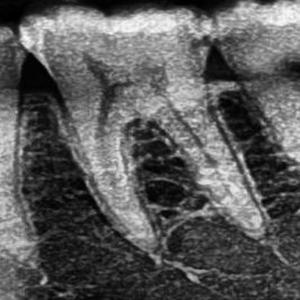tooth: (19, 5, 264, 244), (209, 0, 300, 165)
